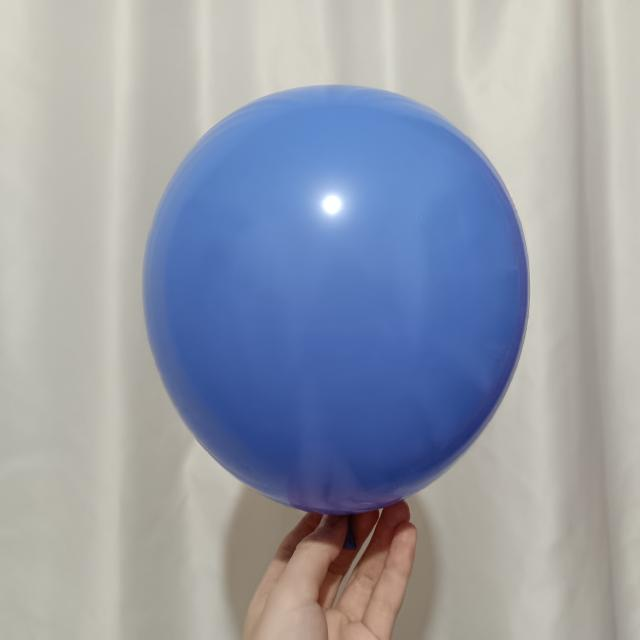blue: (144, 86, 531, 520)
